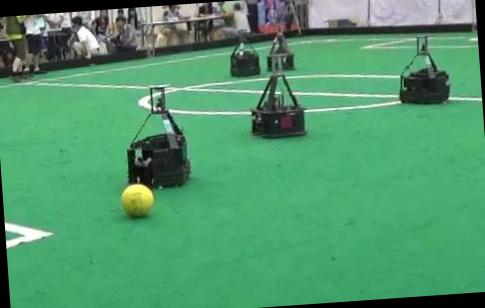ball: (121, 183, 153, 216)
person: (22, 14, 47, 76), (5, 16, 25, 80)
robot: (126, 85, 191, 187), (251, 53, 305, 137), (399, 36, 449, 102), (230, 28, 260, 76), (266, 31, 293, 70)
